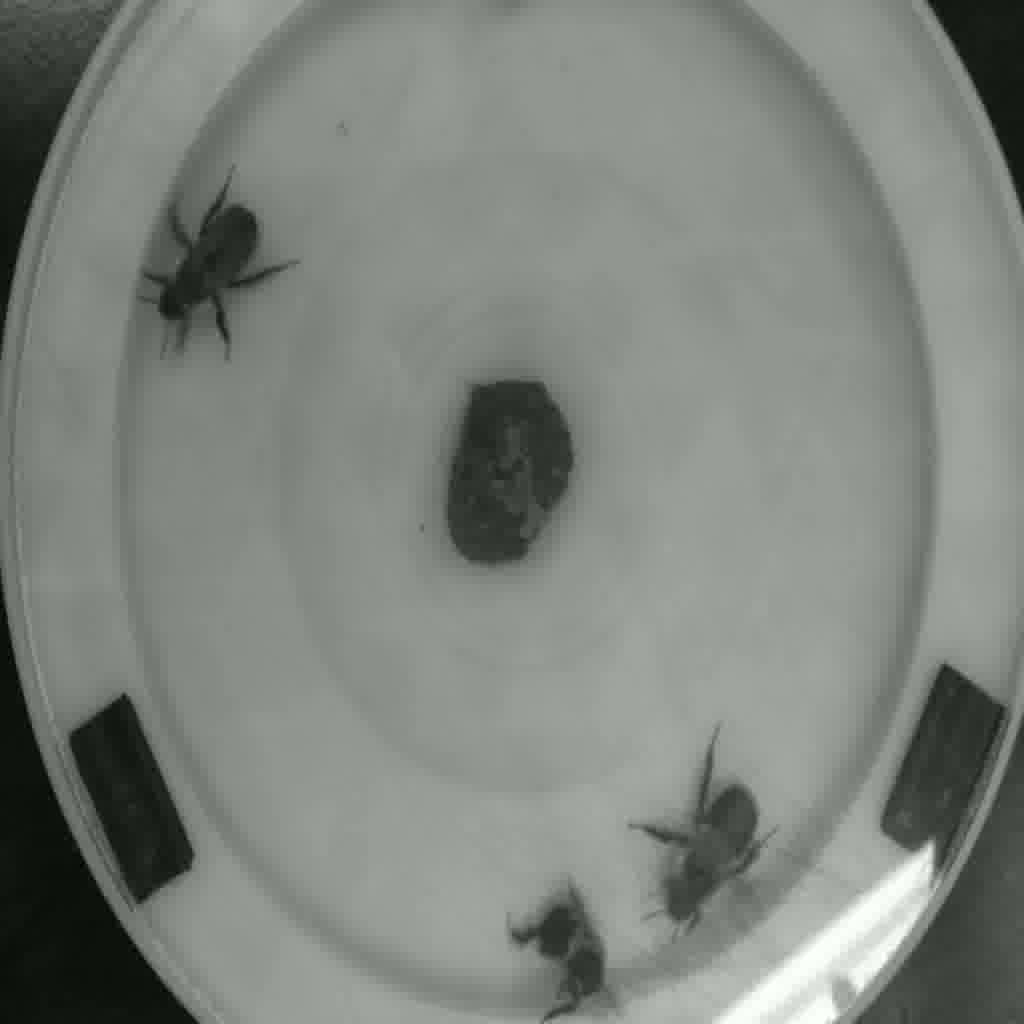bee: (131, 178, 292, 349), (641, 742, 783, 917), (499, 882, 624, 1022)
